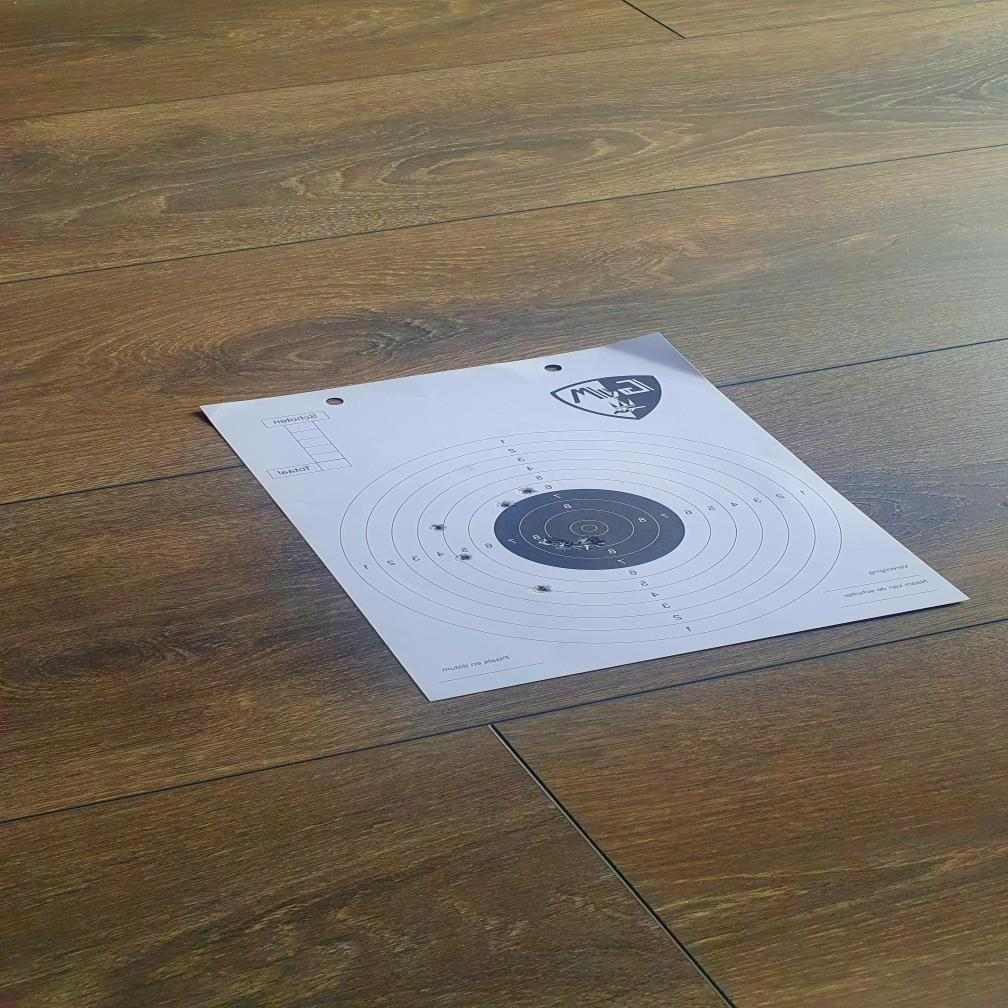5: (530, 584, 554, 594), (426, 522, 447, 533), (454, 553, 474, 562)
6: (516, 486, 538, 496)
7: (492, 499, 520, 510)
9: (575, 536, 605, 550), (537, 536, 559, 546), (556, 541, 576, 551)
Target: (338, 428, 845, 645)
black_contour: (492, 488, 686, 570)
